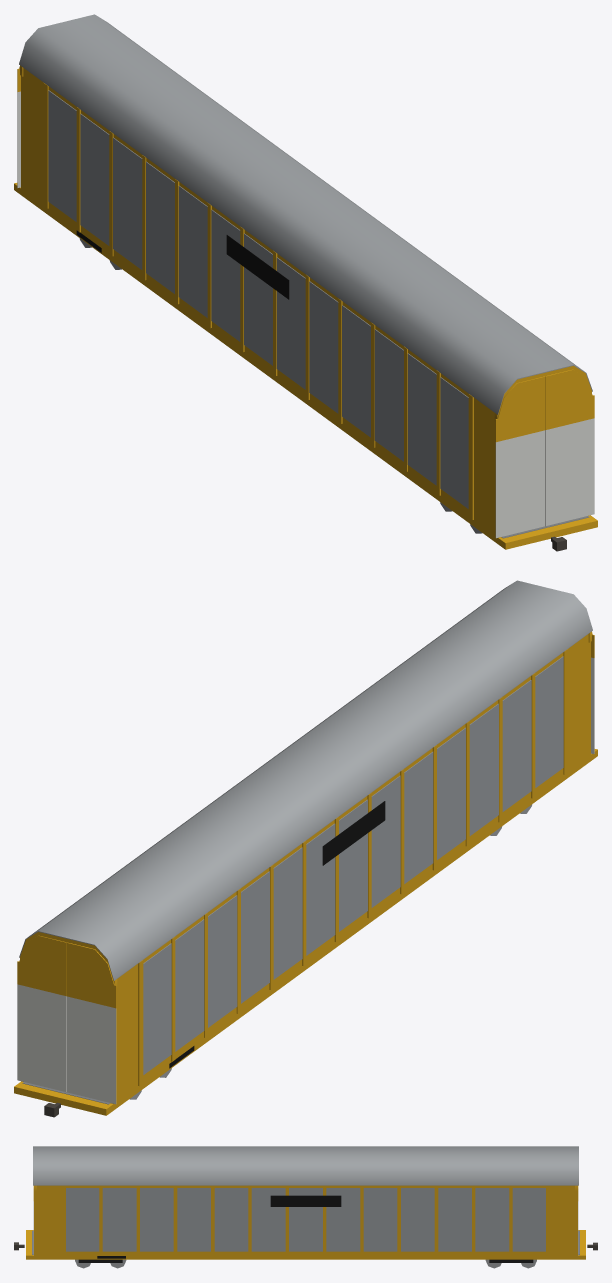
File: autorack_89_rwkz.glb
The picture shows the model from 3 angles, top to bottom: view 1: azimuth 30°, elevation 25°; view 2: azimuth 150°, elevation 25°; view 3: azimuth 270°, elevation 25°; orthographic projection. The views are drawn at different scales.
Visible parts, largest first — view 1: Body_Roof, Body_Screen, Body_Rack, Door_l_2_Door, Door_r_2_Door, Body_Frame, Door_r_2_DoorTop, Door_l_2_DoorTop, Body_Plate; view 2: Body_Roof, Body_Screen, Body_Rack, Door_l_1_Door, Door_r_1_Door, Body_Frame, Door_l_1_DoorTop, Door_r_1_DoorTop, Body_Plate; view 3: Body_Screen, Body_Roof, Body_Rack, Body_Frame, Body_Plate.
Boxes of the visible parts, x1,y1,x2,y2 form: Body_Roof: (19,14,592,414); Body_Screen: (48,90,468,508); Body_Rack: (20,65,591,537); Door_l_2_Door: (545,418,594,525); Door_r_2_Door: (495,430,544,538); Body_Frame: (14,183,597,549); Door_r_2_DoorTop: (495,376,545,442); Door_l_2_DoorTop: (545,369,594,429); Body_Plate: (226,235,289,299); Body_Roof: (19,580,592,980); Body_Screen: (143,656,563,1074); Body_Rack: (20,631,591,1103); Door_l_1_Door: (67,996,116,1104); Door_r_1_Door: (17,984,66,1092); Body_Frame: (14,749,597,1115); Door_l_1_DoorTop: (66,942,116,1008); Door_r_1_DoorTop: (17,935,66,996); Body_Plate: (322,801,385,865); Body_Screen: (66,1188,545,1251); Body_Roof: (33,1146,578,1185); Body_Rack: (34,1185,577,1255); Body_Frame: (26,1230,585,1259); Body_Plate: (270,1195,341,1206).
Bounding box in the file's own units: 3.18 × 5.79 × 28.6.
